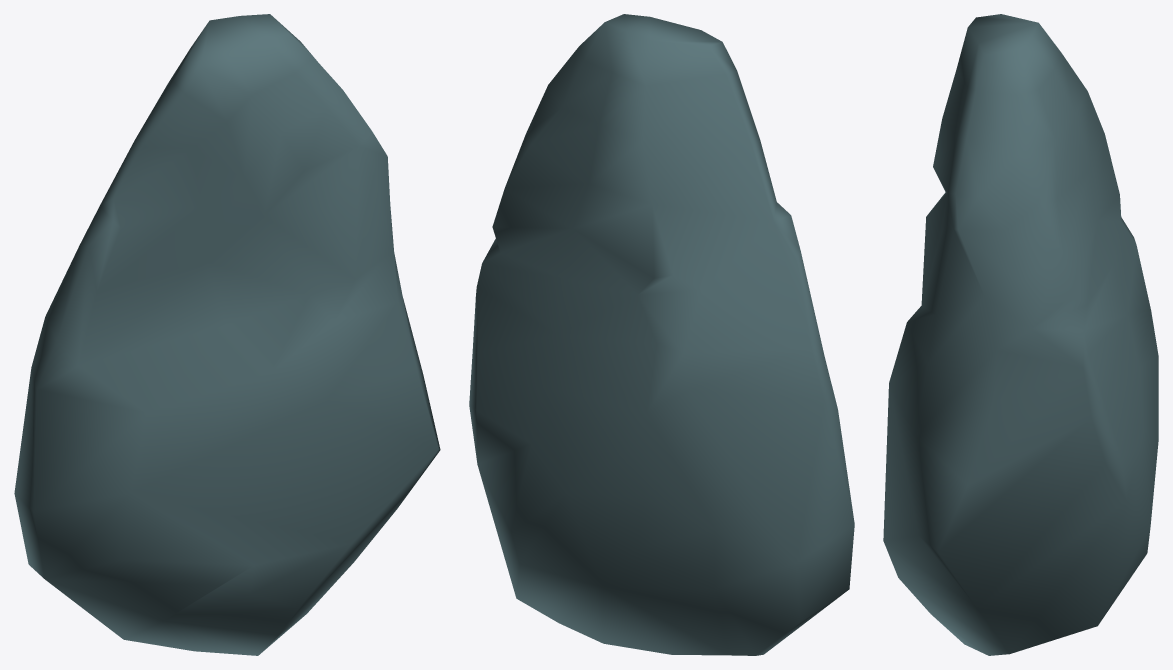
File: rock_01.glb
The picture shows the model from 3 angles, left to right: view 1: azimuth 30°, elevation 25°; view 2: azimuth 150°, elevation 25°; view 3: azimuth 270°, elevation 25°; orthographic projection. The views are drawn at different scales.
Visible parts, largest first — view 1: rockmodel1; view 2: rockmodel1; view 3: rockmodel1.
Boxes of the visible parts, left/top/right/bottom form: rockmodel1: left=14, top=14, right=440, bottom=655; rockmodel1: left=469, top=14, right=854, bottom=655; rockmodel1: left=883, top=14, right=1158, bottom=655.
Size of the model in its own units: 0.5287 by 0.8374 by 0.3388.
